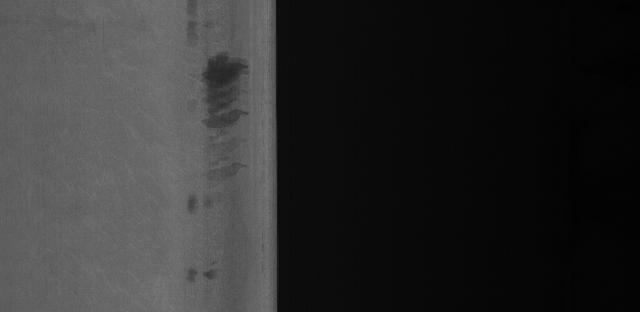oil_spot: (198, 50, 253, 182), (181, 184, 228, 287), (182, 2, 208, 54)
